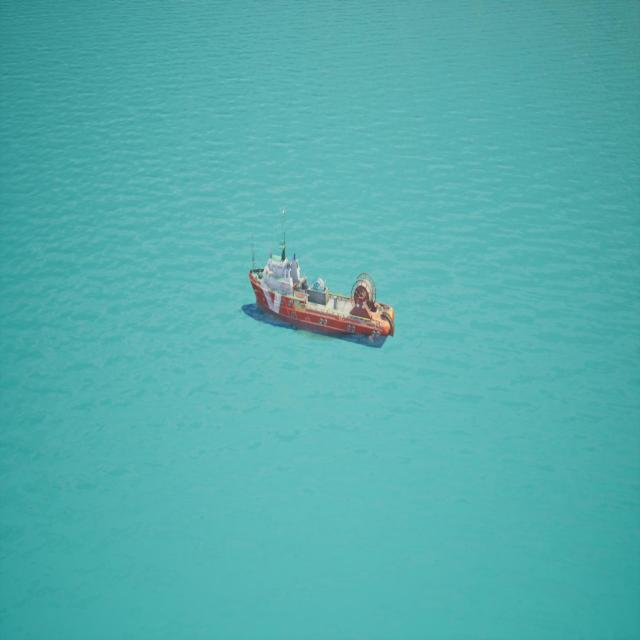tug boat: (244, 208, 398, 352)
